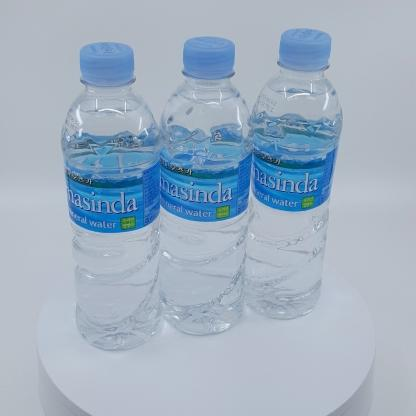-------------500ML: (60, 41, 161, 351), (245, 28, 344, 320), (158, 36, 253, 335)
